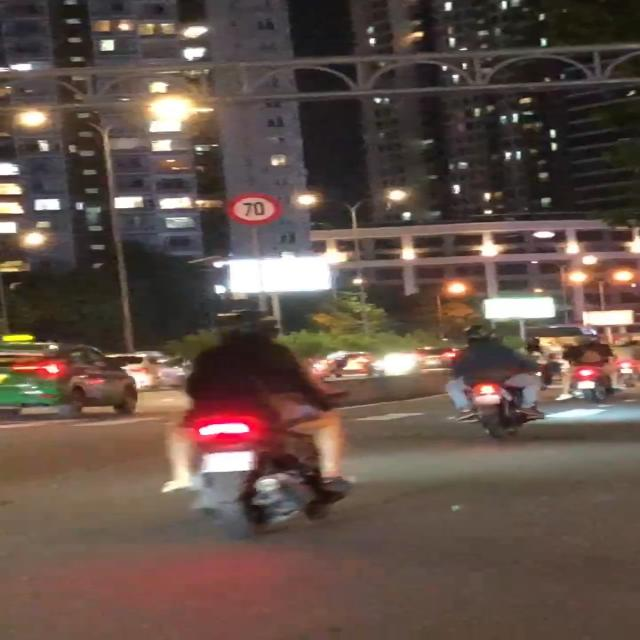Bien bao toc do toi da cho phep: (221, 191, 285, 227)
